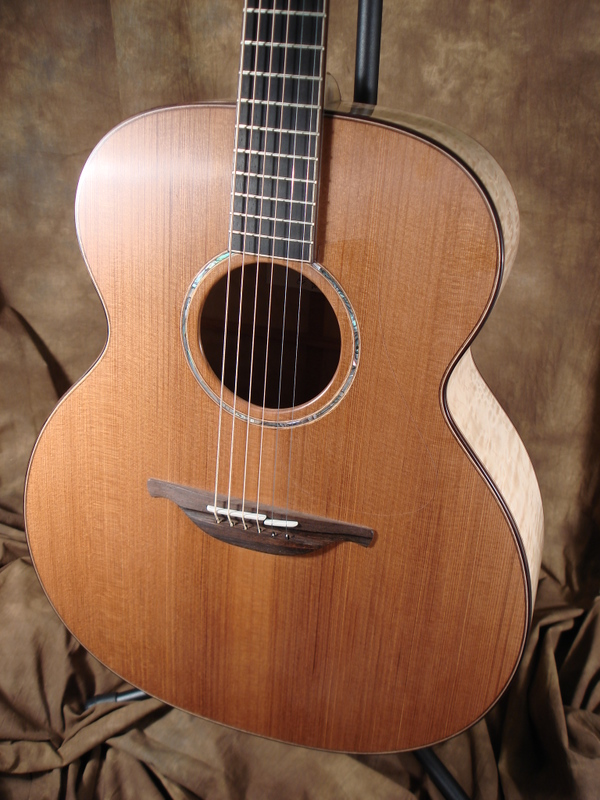guitar: (22, 1, 547, 754)
